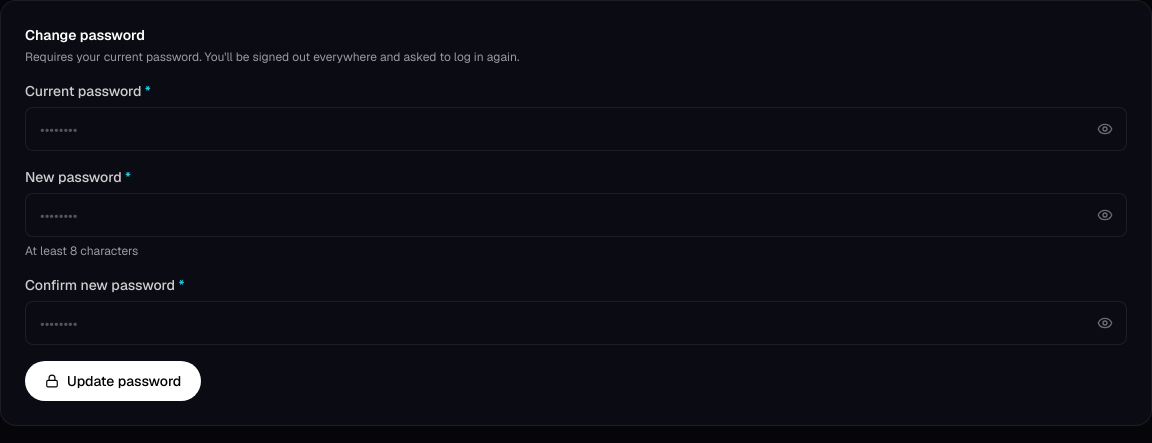
Scenario: ChangePasswordSection — validation › requires the new password to be at least 8 characters
This screenshot has width=1152, height=443.
In the password field labelled "Current password *": (576, 129) [25, 107, 1127, 151], type "myCurrentPassword1"
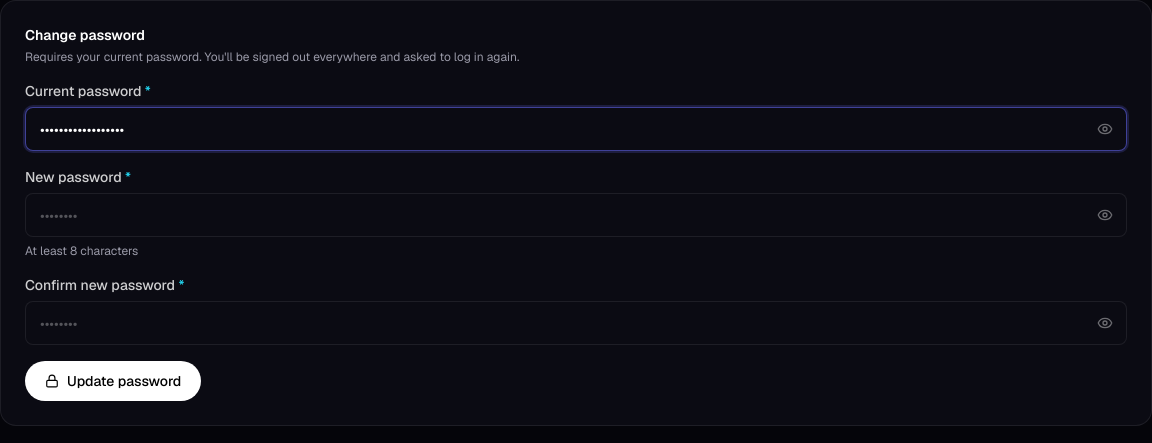
In the password field labelled "New password *": (576, 215) [25, 193, 1127, 237], type "short1"
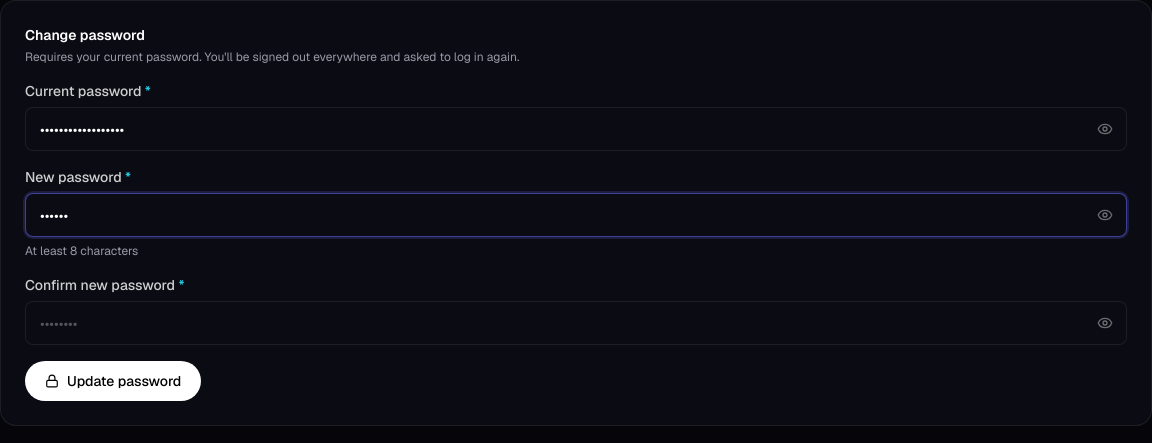
In the password field labelled "Confirm new password *": (576, 323) [25, 301, 1127, 345], type "short1"
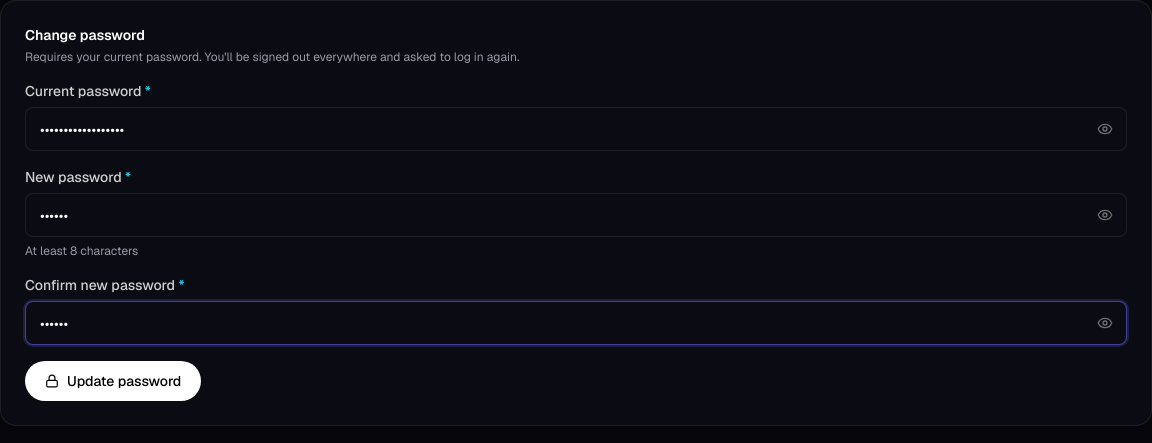
Click the button "Update password": (113, 381) [25, 361, 201, 401]
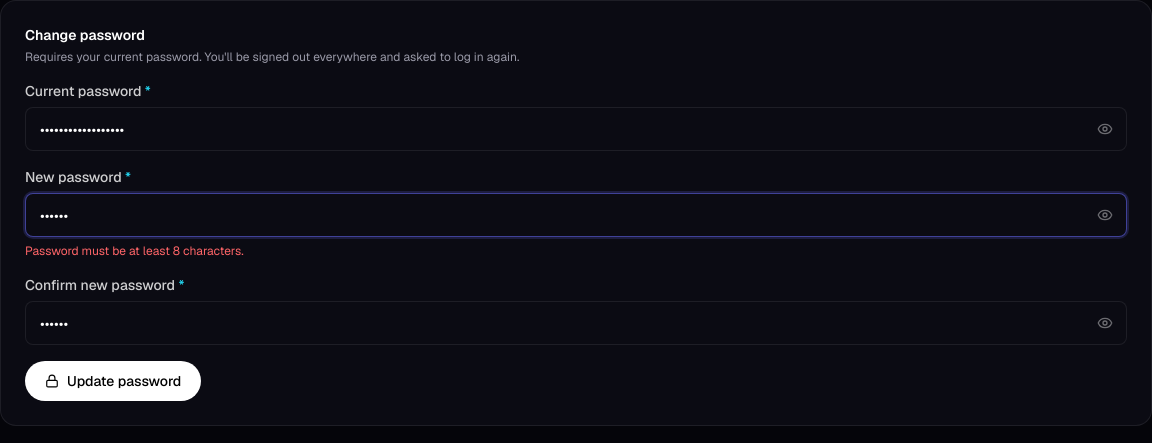
Result: the text "Password must be at least 8 characters." is shown at [25, 243, 244, 259]
